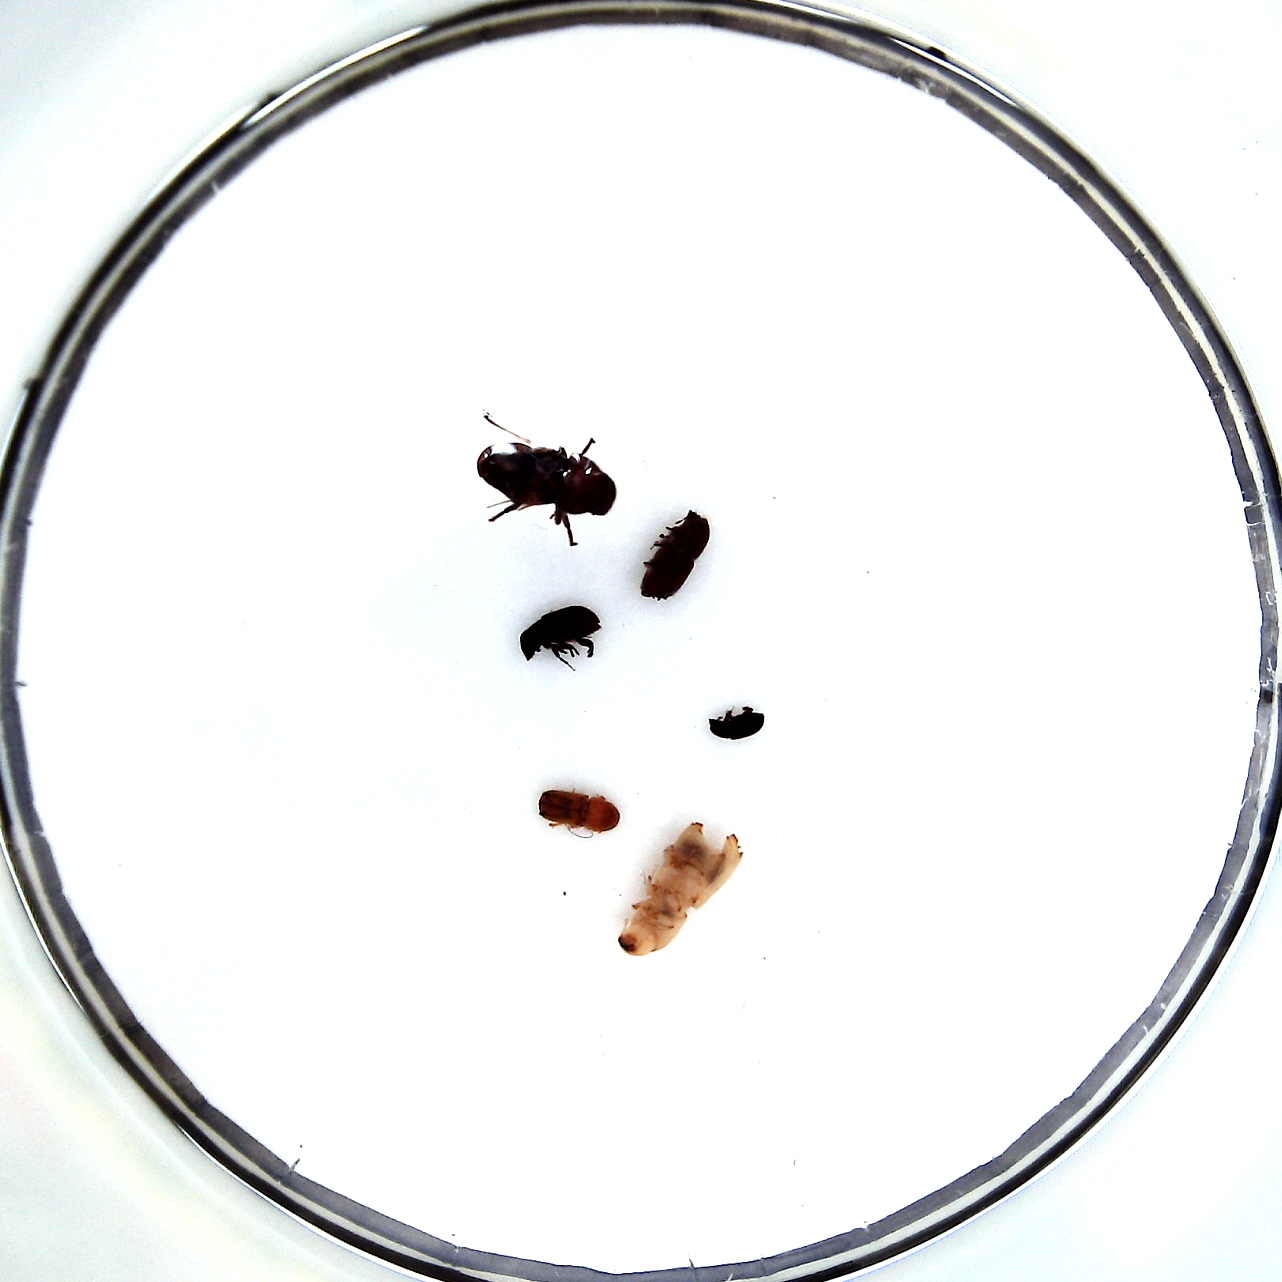Boerner: (618, 823, 744, 957)
Leconte: (475, 441, 618, 524)
acuminatus: (707, 711, 764, 740)
armandi: (520, 603, 601, 661)
linnaeus: (639, 510, 710, 601), (537, 790, 620, 834)
